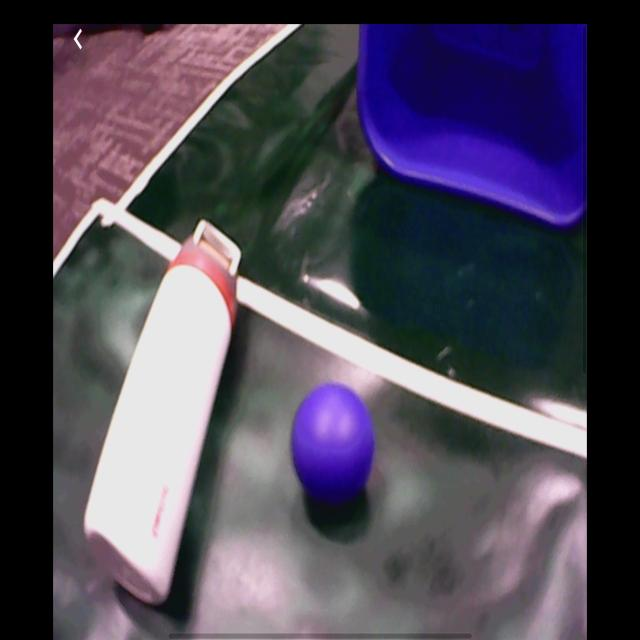ball: (292, 385, 376, 510)
